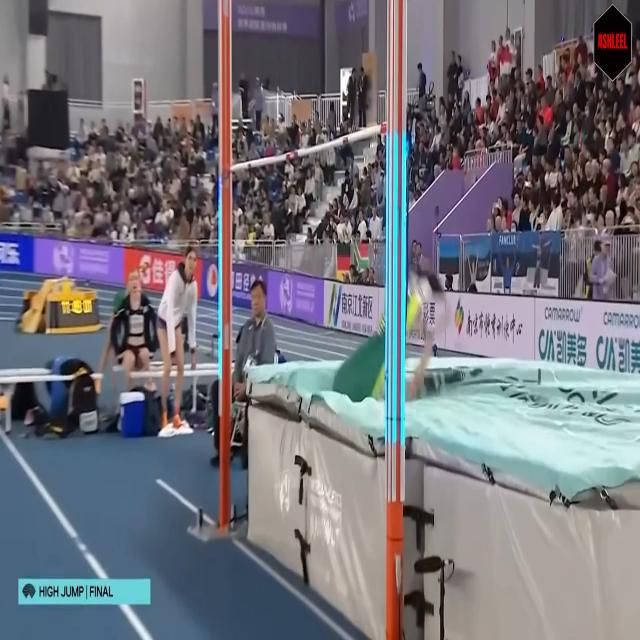land: (333, 260, 438, 400)
